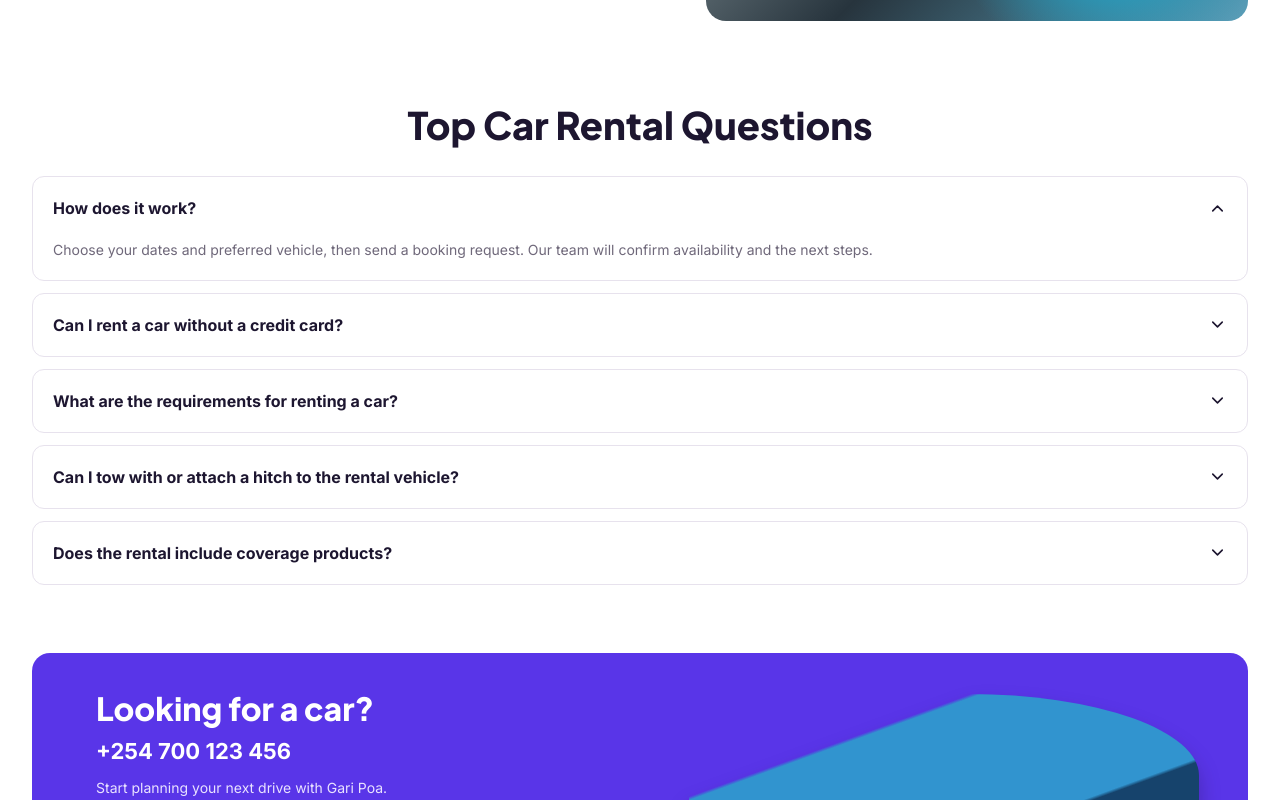
Test: about page questions › supports pointer activation and keeps the answer region connected to its button
(page scrolled)
Click the button "What are the requirements for renting a car?".
click(225, 401)  # box [33, 370, 1247, 432]
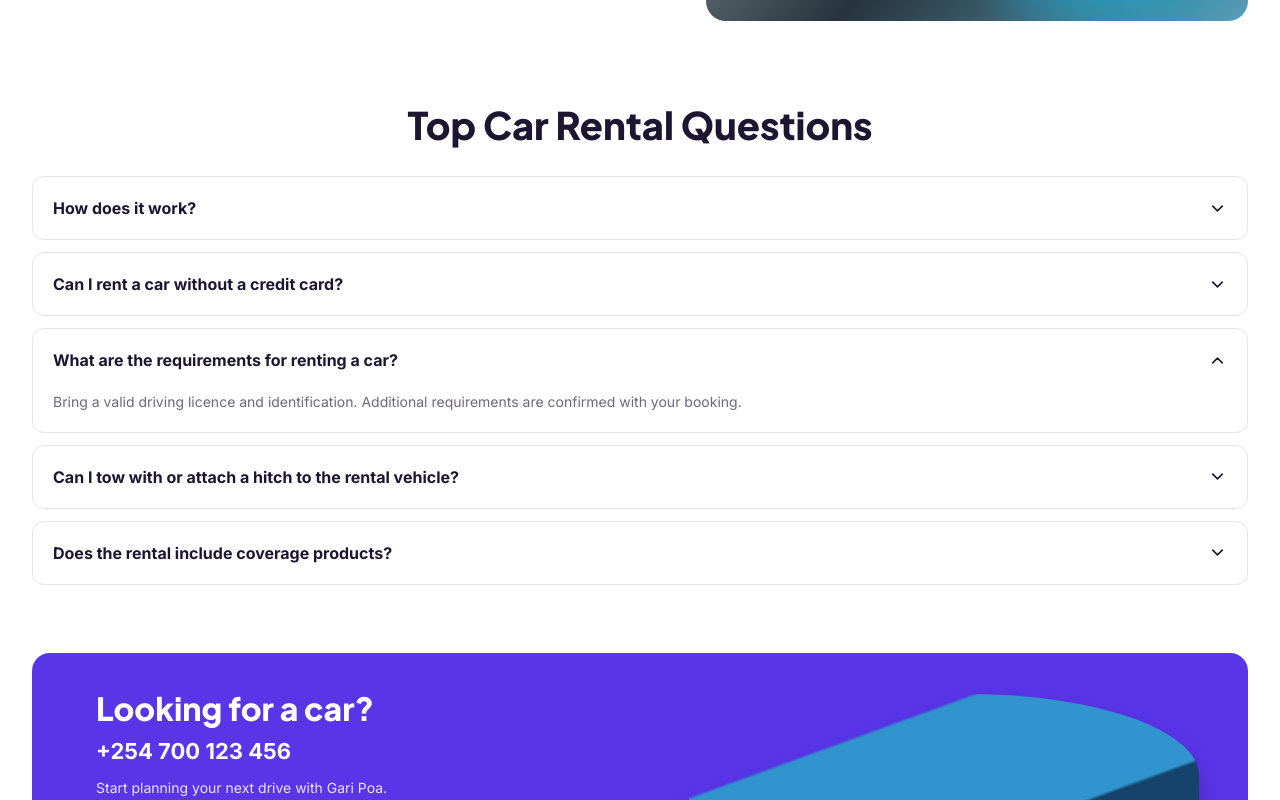
Check: the button "What are the requirements for renting a car?" is expanded, box [33, 329, 1247, 391]
